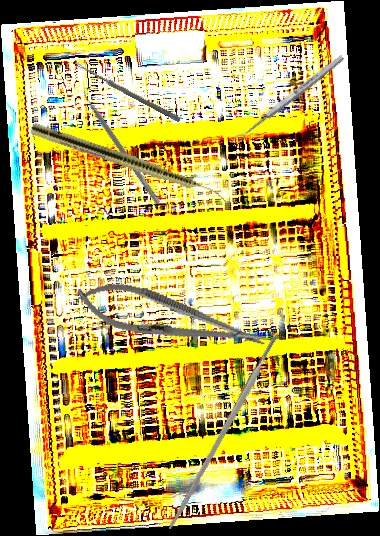Handpiece: (28, 121, 232, 205)
Needle Holder: (70, 271, 272, 366)
Scalpel Handle: (165, 333, 282, 532)
Spatula Surgical: (77, 85, 166, 205)
Surgical Spoon: (233, 53, 346, 144), (74, 61, 182, 123)
